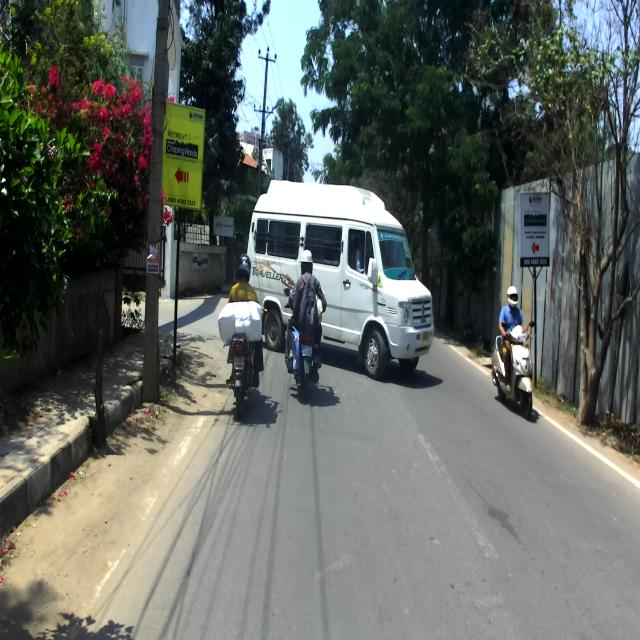bus ahead at: (325, 200, 437, 385)
electric pole ahead at: (144, 0, 181, 411)
motorcycle ahead at: (488, 315, 542, 423), (216, 331, 268, 415), (284, 317, 325, 398)
tree ahead at: (562, 182, 636, 428)
